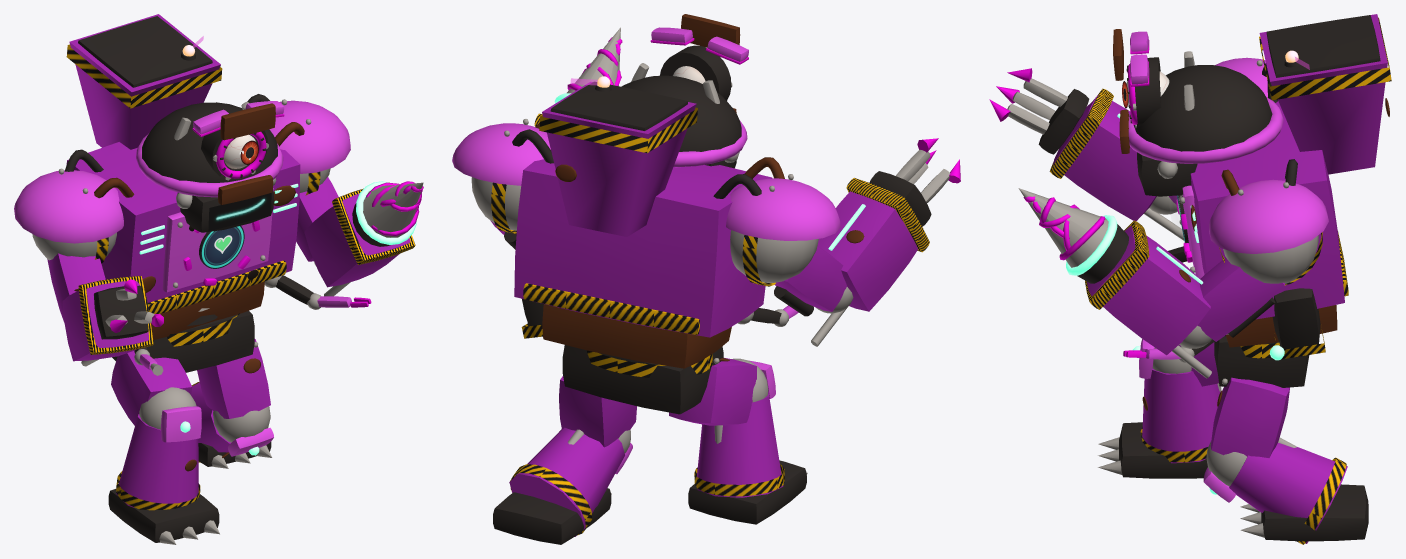
The model's file is prime_alt2.glb.
3 renders of one model, left to right at view 1: azimuth 30°, elevation 25°; view 2: azimuth 150°, elevation 25°; view 3: azimuth 270°, elevation 25°, orthographic. The views are drawn at different scales.
Visible parts, largest first — view 1: object 32, object 120, object 104, object 106, object 10, object 63, MAKER PRIME ALT 2, object 40, object 140, object 147, object 17, object 2 (+31 smaller); view 2: object 32, object 104, MAKER PRIME ALT 2, object 127, object 33, object 120, object 25, object 10, object 140, object 106, object 63, object 28 (+19 smaller); view 3: object 32, object 104, object 63, object 147, object 140, object 25, object 10, object 127, object 106, object 17, object 143, object 28 (+28 smaller).
Boxes of the visible parts, bbox=[...] form: object 32: bbox=[66, 142, 300, 302]; object 120: bbox=[14, 170, 123, 243]; object 104: bbox=[69, 14, 220, 149]; object 106: bbox=[78, 16, 212, 87]; object 10: bbox=[116, 414, 198, 507]; object 63: bbox=[142, 102, 277, 182]; MAKER PRIME ALT 2: bbox=[112, 308, 254, 372]; object 40: bbox=[162, 188, 273, 292]; object 140: bbox=[269, 100, 350, 173]; object 147: bbox=[304, 193, 410, 287]; object 17: bbox=[197, 339, 270, 418]; object 2: bbox=[111, 351, 192, 425]; object 32: bbox=[514, 159, 772, 337]; object 104: bbox=[542, 82, 696, 236]; MAKER PRIME ALT 2: bbox=[562, 345, 723, 414]; object 127: bbox=[817, 191, 917, 311]; object 33: bbox=[542, 304, 731, 368]; object 120: bbox=[726, 178, 840, 240]; object 25: bbox=[509, 427, 624, 536]; object 10: bbox=[697, 391, 783, 497]; object 140: bbox=[452, 123, 550, 185]; object 106: bbox=[550, 81, 687, 130]; object 63: bbox=[621, 75, 741, 151]; object 28: bbox=[493, 488, 611, 544]; object 32: bbox=[1190, 97, 1344, 319]; object 104: bbox=[1259, 14, 1387, 174]; object 63: bbox=[1133, 65, 1272, 151]; object 147: bbox=[1087, 225, 1210, 355]; object 140: bbox=[1209, 179, 1328, 253]; object 25: bbox=[1229, 442, 1347, 543]; object 10: bbox=[1142, 368, 1220, 463]; object 127: bbox=[1053, 94, 1156, 221]; object 106: bbox=[1266, 15, 1380, 77]; object 17: bbox=[1210, 377, 1289, 457]; object 143: bbox=[1197, 257, 1284, 341]; object 28: bbox=[1261, 484, 1368, 541].
Size of what is drawn, in the model's own units: 2.3 by 2.7 by 2.09.
Materials: 174 (16 with a texture image).
